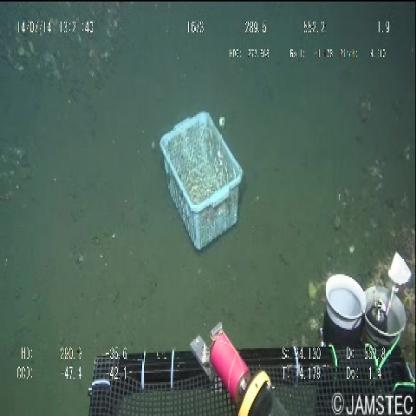Rov: (70, 243, 416, 416)
Rác: (155, 108, 247, 259)
